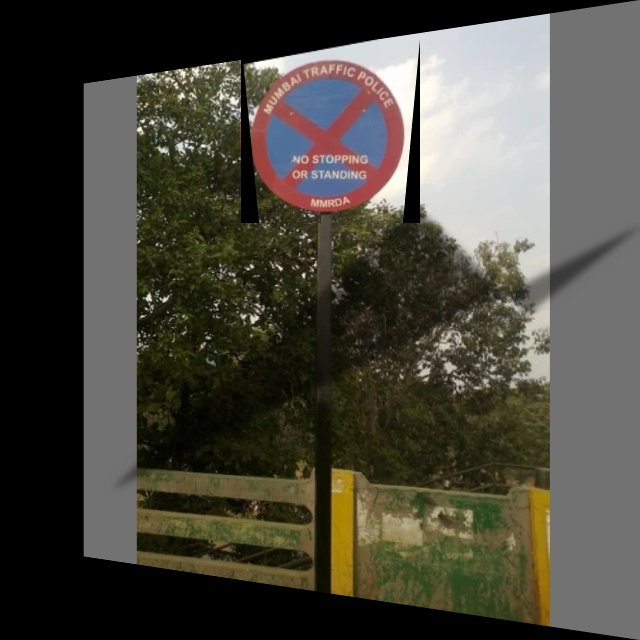No_Stopping_or_Standing: (241, 39, 420, 223)
